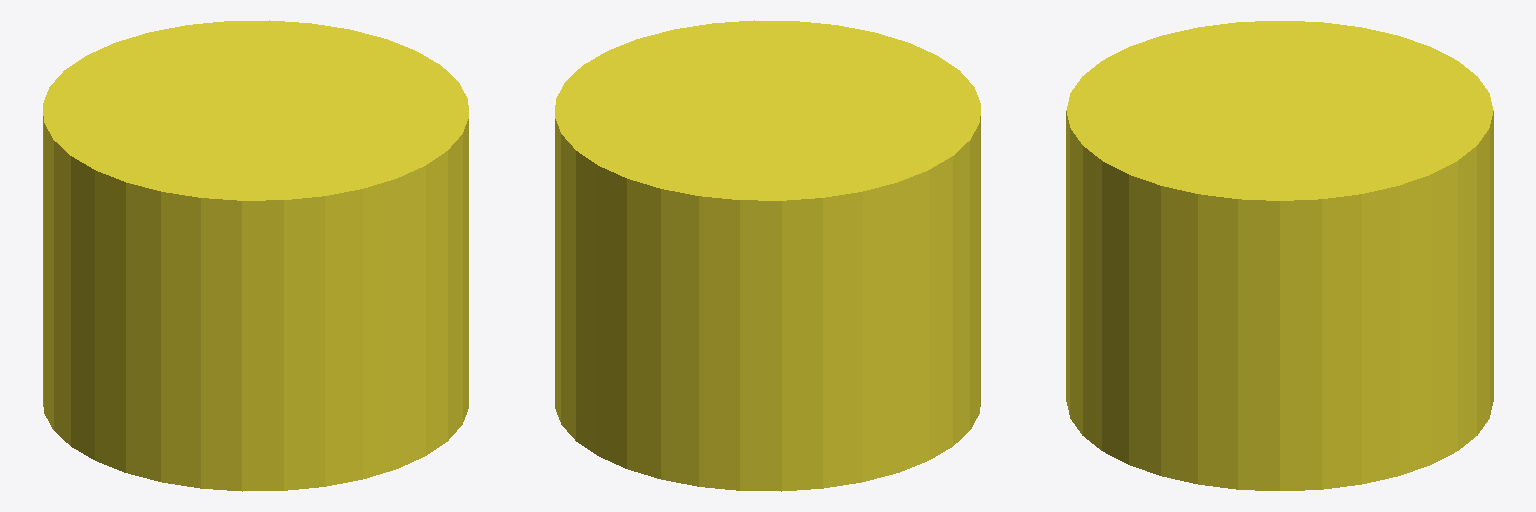
URDF robot description (mobiePanda):
<?xml version="1.0"?>
<!-- =================================================================================== -->
<!-- |    This document was autogenerated by xacro from panda_arm.urdf.xacro           | -->
<!-- |    EDITING THIS FILE BY HAND IS NOT RECOMMENDED                                 | -->
<!-- =================================================================================== -->
<robot name="mobiePanda">
  <link name="world"/>
  <link name="base_link_x">
    <inertial>
      <mass value="1.0"/>
      <origin rpy="0 0 0" xyz="0 0 0"/>
      <inertia ixx="1.0" ixy="0.0" ixz="0.0" iyy="1.0" iyz="0.0" izz="1.0"/>
    </inertial>
  </link>
  <link name="base_link_y">
    <inertial>
      <mass value="1.0"/>
      <origin rpy="0 0 0" xyz="0 0 0"/>
      <inertia ixx="1.0" ixy="0.0" ixz="0.0" iyy="1.0" iyz="0.0" izz="1.0"/>
    </inertial>
  </link>
  <link name="base_link">
    <inertial>
      <mass value="100.0"/>
      <origin rpy="0 0 0" xyz="0 0 0"/>
      <inertia ixx="1.0" ixy="0.0" ixz="0.0" iyy="1.0" iyz="0.0" izz="1.0"/>
    </inertial>
    <collision>
      <origin rpy="0.0 0 0" xyz="0 0 0"/>
      <geometry>
          <cylinder length="0.3" radius="0.2"/>
      </geometry>
    </collision>
    <visual>
      <origin rpy="0.0 0 0" xyz="0 0 0"/>
      <geometry>
          <cylinder length="0.3" radius="0.2"/>
      </geometry>
    </visual>
  </link>
  <joint name="mobile_joint_x" type="prismatic">
    <safety_controller k_position="100.0" k_velocity="40.0" soft_lower_limit="-2.8973" soft_upper_limit="2.8973"/>
    <parent link="world"/>
    <child link="base_link_x"/>
    <origin rpy="0 0 0" xyz="0 0 0.15"/>
    <axis xyz="1 0 0"/>
    <limit effort="87" lower="-5" upper="5" velocity="2.1750"/>
  </joint>
  <joint name="mobile_joint_y" type="prismatic">
    <safety_controller k_position="100.0" k_velocity="40.0" soft_lower_limit="-2.8973" soft_upper_limit="2.8973"/>
    <parent link="base_link_x"/>
    <child link="base_link_y"/>
    <origin rpy="0 0 0" xyz="0 0 0"/>
    <axis xyz="0 1 0"/>
    <limit effort="87" lower="-5" upper="5" velocity="2.1750"/>
  </joint>
  <joint name="mobile_joint_theta" type="revolute">
    <safety_controller k_position="100.0" k_velocity="40.0" soft_lower_limit="-2.8973" soft_upper_limit="2.8973"/>
    <parent link="base_link_y"/>
    <child link="base_link"/>
    <origin rpy="0 0 0" xyz="0 0 0"/>
    <axis xyz="0 0 1"/>
    <limit effort="87" lower="-5" upper="5" velocity="2.1750"/>
  </joint>
  <link name="panda_link0">
    <inertial>
      <mass value="2.92"/>
      <origin rpy="0 0 0" xyz="-0.025566 -2.88e-05 0.057332"/>
      <inertia ixx="0.00782229414331" ixy="-1.56191622996e-05" ixz="-0.00126005738123" iyy="0.0109027971813" iyz="1.08233858202e-05" izz="0.0102355503949"/>
    </inertial>
    <visual>
      <origin rpy="0 0 0" xyz="0 0 0"/>
      <geometry>
        <mesh filename="meshes/visual/link0.dae"/>
      </geometry>
      <material name="">
        <color rgba="1 1 1 1"/>
      </material>
    </visual>
    <collision>
      <origin rpy="0 0 0" xyz="0 0 0"/>
      <geometry>
        <mesh filename="meshes/collision/link0.stl"/>
      </geometry>
    </collision>
  </link>
  <joint name="panda_joint_base" type="fixed">
    <parent link="base_link"/>
    <child link="panda_link0"/>
    <origin rpy="0 0 0" xyz="0 0 0.1"/>
  </joint>
  <link name="panda_link1">
    <inertial>
      <mass value="2.74"/>
      <origin rpy="0 0 0" xyz="0 -0.0324958 -0.0675818"/>
      <inertia ixx="0.0180416958283" ixy="0.0" ixz="0.0" iyy="0.0159136071891" iyz="0.0046758424612" izz="0.00620690827127"/>
    </inertial>
    <visual>
      <origin rpy="0 0 0" xyz="0 0 0"/>
      <geometry>
        <mesh filename="meshes/visual/link1.dae"/>
      </geometry>
      <material name="">
        <color rgba="1 1 1 1"/>
      </material>
    </visual>
    <collision>
      <origin rpy="0 0 0" xyz="0 0 0"/>
      <geometry>
        <mesh filename="meshes/collision/link1.stl"/>
      </geometry>
    </collision>
  </link>
  <joint name="panda_joint1" type="revolute">
    <safety_controller k_position="100.0" k_velocity="40.0" soft_lower_limit="-2.8973" soft_upper_limit="2.8973"/>
    <origin rpy="0 0 0" xyz="0 0 0.333"/>
    <parent link="panda_link0"/>
    <child link="panda_link1"/>
    <axis xyz="0 0 1"/>
    <limit effort="87" lower="-2.8973" upper="2.8973" velocity="2.1750"/>
  </joint>
  <link name="panda_link2">
    <inertial>
      <mass value="2.74"/>
      <origin rpy="0 0 0" xyz="0 -0.06861 0.0322285"/>
      <inertia ixx="0.0182856182281" ixy="0.0" ixz="0.0" iyy="0.00621358421175" iyz="-0.00472844221905" izz="0.0161514346309"/>
    </inertial>
    <visual>
      <origin rpy="0 0 0" xyz="0 0 0"/>
      <geometry>
        <mesh filename="meshes/visual/link2.dae"/>
      </geometry>
      <material name="">
        <color rgba="1 1 1 1"/>
      </material>
    </visual>
    <collision>
      <origin rpy="0 0 0" xyz="0 0 0"/>
      <geometry>
        <mesh filename="meshes/collision/link2.stl"/>
      </geometry>
    </collision>
  </link>
  <joint name="panda_joint2" type="revolute">
    <safety_controller k_position="100.0" k_velocity="40.0" soft_lower_limit="-1.7628" soft_upper_limit="1.7628"/>
    <origin rpy="-1.57079632679 0 0" xyz="0 0 0"/>
    <parent link="panda_link1"/>
    <child link="panda_link2"/>
    <axis xyz="0 0 1"/>
    <limit effort="87" lower="-1.7628" upper="1.7628" velocity="2.1750"/>
  </joint>
  <link name="panda_link3">
    <inertial>
      <mass value="2.38"/>
      <origin rpy="0 0 0" xyz="0.0469893 0.0316374 -0.031704"/>
      <inertia ixx="0.00771376630908" ixy="-0.00248490625138" ixz="-0.00332147581033" iyy="0.00989108008727" iyz="-0.00217796151484" izz="0.00811723558464"/>
    </inertial>
    <visual>
      <origin rpy="0 0 0" xyz="0 0 0"/>
      <geometry>
        <mesh filename="meshes/visual/link3.dae"/>
      </geometry>
      <material name="">
        <color rgba="1 1 1 1"/>
      </material>
    </visual>
    <collision>
      <origin rpy="0 0 0" xyz="0 0 0"/>
      <geometry>
        <mesh filename="meshes/collision/link3.stl"/>
      </geometry>
    </collision>
  </link>
  <joint name="panda_joint3" type="revolute">
    <safety_controller k_position="100.0" k_velocity="40.0" soft_lower_limit="-2.8973" soft_upper_limit="2.8973"/>
    <origin rpy="1.57079632679 0 0" xyz="0 -0.316 0"/>
    <parent link="panda_link2"/>
    <child link="panda_link3"/>
    <axis xyz="0 0 1"/>
    <limit effort="87" lower="-2.8973" upper="2.8973" velocity="2.1750"/>
  </joint>
  <link name="panda_link4">
    <inertial>
      <mass value="2.38"/>
      <origin rpy="0 0 0" xyz="-0.0360446 0.0336853 0.031882"/>
      <inertia ixx="0.00799663881132" ixy="0.00347095570217" ixz="-0.00241222942995" iyy="0.00825390705278" iyz="0.00235774044121" izz="0.0102515004345"/>
    </inertial>
    <visual>
      <origin rpy="0 0 0" xyz="0 0 0"/>
      <geometry>
        <mesh filename="meshes/visual/link4.dae"/>
      </geometry>
      <material name="">
        <color rgba="1 1 1 1"/>
      </material>
    </visual>
    <collision>
      <origin rpy="0 0 0" xyz="0 0 0"/>
      <geometry>
        <mesh filename="meshes/collision/link4.stl"/>
      </geometry>
    </collision>
  </link>
  <joint name="panda_joint4" type="revolute">
    <safety_controller k_position="100.0" k_velocity="40.0" soft_lower_limit="-3.0718" soft_upper_limit="0.0698"/>
    <!-- soft_upper_limitr should be -0.0698, but that brakes simulation when initial position for this joint is 0.0 -->
    <origin rpy="1.57079632679 0 0" xyz="0.0825 0 0"/>
    <parent link="panda_link3"/>
    <child link="panda_link4"/>
    <axis xyz="0 0 1"/>
    <limit effort="87" lower="-3.0718" upper="0.0698" velocity="2.1750"/>
    <!-- upper should be -0.0698, but that brakes simulation when initial position for this joint is 0.0 -->
  </joint>
  <link name="panda_link5">
    <inertial>
      <mass value="2.74"/>
      <origin rpy="0 0 0" xyz="0 0.0610427 -0.104176"/>
      <inertia ixx="0.030371374513" ixy="6.50283587108e-07" ixz="-1.05129179916e-05" iyy="0.0288752887402" iyz="-0.00775653445787" izz="0.00444134056164"/>
    </inertial>
    <visual>
      <origin rpy="0 0 0" xyz="0 0 0"/>
      <geometry>
        <mesh filename="meshes/visual/link5.dae"/>
      </geometry>
      <material name="">
        <color rgba="1 1 1 1"/>
      </material>
    </visual>
    <collision>
      <origin rpy="0 0 0" xyz="0 0 0"/>
      <geometry>
        <mesh filename="meshes/collision/link5.stl"/>
      </geometry>
    </collision>
  </link>
  <joint name="panda_joint5" type="revolute">
    <safety_controller k_position="100.0" k_velocity="40.0" soft_lower_limit="-2.8973" soft_upper_limit="2.8973"/>
    <origin rpy="-1.57079632679 0 0" xyz="-0.0825 0.384 0"/>
    <parent link="panda_link4"/>
    <child link="panda_link5"/>
    <axis xyz="0 0 1"/>
    <limit effort="12" lower="-2.8973" upper="2.8973" velocity="2.6100"/>
  </joint>
  <link name="panda_link6">
    <inertial>
      <mass value="1.55"/>
      <origin rpy="0 0 0" xyz="0.0510509 0.009108 0.0106343"/>
      <inertia ixx="0.00303336450376" ixy="-0.000437276865508" ixz="0.000629257294877" iyy="0.00404479911567" iyz="0.000130472021025" izz="0.00558234286039"/>
    </inertial>
    <visual>
      <origin rpy="0 0 0" xyz="0 0 0"/>
      <geometry>
        <mesh filename="meshes/visual/link6.dae"/>
      </geometry>
      <material name="">
        <color rgba="1 1 1 1"/>
      </material>
    </visual>
    <collision>
      <origin rpy="0 0 0" xyz="0 0 0"/>
      <geometry>
        <mesh filename="meshes/collision/link6.stl"/>
      </geometry>
    </collision>
  </link>
  <joint name="panda_joint6" type="revolute">
    <safety_controller k_position="100.0" k_velocity="40.0" soft_lower_limit="-0.0175" soft_upper_limit="3.7525"/>
    <origin rpy="1.57079632679 0 0" xyz="0 0 0"/>
    <parent link="panda_link5"/>
    <child link="panda_link6"/>
    <axis xyz="0 0 1"/>
    <limit effort="12" lower="-0.0175" upper="3.7525" velocity="2.6100"/>
  </joint>
  <link name="panda_link7">
    <inertial>
      <mass value="0.54"/>
      <origin rpy="0 0 0" xyz="0.0109695 0.0107965 0.0650411"/>
      <inertia ixx="0.000888868887021" ixy="-0.00012239074652" ixz="3.98699829666e-05" iyy="0.000888001373233" iyz="-9.33825115206e-05" izz="0.0007176834609"/>
    </inertial>
    <visual>
      <origin rpy="0 0 0" xyz="0 0 0"/>
      <geometry>
        <mesh filename="meshes/visual/link7.dae"/>
      </geometry>
      <material name="">
        <color rgba="1 1 1 1"/>
      </material>
    </visual>
    <collision>
      <origin rpy="0 0 0" xyz="0 0 0"/>
      <geometry>
        <mesh filename="meshes/collision/link7.stl"/>
      </geometry>
    </collision>
  </link>
  <joint name="panda_joint7" type="revolute">
    <safety_controller k_position="100.0" k_velocity="40.0" soft_lower_limit="-2.8973" soft_upper_limit="2.8973"/>
    <origin rpy="1.57079632679 0 0" xyz="0.088 0 0"/>
    <parent link="panda_link6"/>
    <child link="panda_link7"/>
    <axis xyz="0 0 1"/>
    <limit effort="12" lower="-2.8973" upper="2.8973" velocity="2.6100"/>
  </joint>
  <!-- critical as zero mass link -->
  <link name="panda_link8"/>
    <inertial>
      <mass value="0.01"/>
      <origin rpy="0 0 0" xyz="0.0 0.0 0.0"/>
      <inertia ixx="0.000888868887021" ixy="-0.00012239074652" ixz="3.98699829666e-05" iyy="0.000888001373233" iyz="-9.33825115206e-05" izz="0.0007176834609"/>
    </inertial>
  <joint name="panda_joint8" type="fixed">
    <origin rpy="0 0 0" xyz="0 0 0.107"/>
    <parent link="panda_link7"/>
    <child link="panda_link8"/>
    <axis xyz="0 0 0"/>
  </joint>
  <joint name="panda_hand_joint" type="fixed">
    <parent link="panda_link8"/>
    <child link="panda_hand"/>
    <origin rpy="0 0 -0.785398163397" xyz="0 0 0"/>
  </joint>
  <link name="panda_hand">
    <visual>
      <geometry>
        <mesh filename="meshes/visual/hand.dae"/>
      </geometry>
    </visual>
    <collision>
      <geometry>
        <mesh filename="meshes/collision/hand.stl"/>
      </geometry>
    </collision>
    <!-- for simulation -->
    <inertial>
      <origin rpy="0 0 0" xyz="0 0 0"/>
      <mass value="0.68"/>
      <inertia ixx="0.1" ixy="0.0" ixz="0.0" iyy="0.1" iyz="0.0" izz="0.1"/>
    </inertial>
    <!-- end for simulation -->
  </link>
  <link name="panda_leftfinger">
    <visual>
      <geometry>
        <mesh filename="meshes/visual/finger.dae"/>
      </geometry>
    </visual>
    <collision>
      <geometry>
        <mesh filename="meshes/collision/finger.stl"/>
      </geometry>
    </collision>
    <!-- for simulation -->
    <inertial>
      <origin rpy="0 0 0" xyz="0 0 0"/>
      <mass value="0.01"/>
      <inertia ixx="0.1" ixy="0.0" ixz="0.0" iyy="0.1" iyz="0.0" izz="0.1"/>
    </inertial>
    <!-- end for simulation -->
  </link>
  <link name="panda_rightfinger">
    <visual>
      <origin rpy="0 0 3.14159265359" xyz="0 0 0"/>
      <geometry>
        <mesh filename="meshes/visual/finger.dae"/>
      </geometry>
    </visual>
    <collision>
      <origin rpy="0 0 3.14159265359" xyz="0 0 0"/>
      <geometry>
        <mesh filename="meshes/collision/finger.stl"/>
      </geometry>
    </collision>
    <!-- for simulation -->
    <inertial>
      <origin rpy="0 0 0" xyz="0 0 0"/>
      <mass value="0.01"/>
      <inertia ixx="0.1" ixy="0.0" ixz="0.0" iyy="0.1" iyz="0.0" izz="0.1"/>
    </inertial>
    <!-- end for simulation -->
  </link>
  <joint name="panda_finger_joint1" type="prismatic">
    <parent link="panda_hand"/>
    <child link="panda_leftfinger"/>
    <origin rpy="0 0 0" xyz="0 0 0.0584"/>
    <axis xyz="0 1 0"/>
    <limit effort="20" lower="0.0" upper="0.04" velocity="0.2"/>
  </joint>
  <joint name="panda_finger_joint2" type="prismatic">
    <parent link="panda_hand"/>
    <child link="panda_rightfinger"/>
    <origin rpy="0 0 0" xyz="0 0 0.0584"/>
    <axis xyz="0 -1 0"/>
    <limit effort="20" lower="0.0" upper="0.04" velocity="0.2"/>
  </joint>
</robot>

--- What the picture shows (computed from the rendered views, not written in the file) ---
The picture shows the robot from 3 angles, left to right: view 1: azimuth 30°, elevation 25°; view 2: azimuth 150°, elevation 25°; view 3: azimuth 270°, elevation 25°; orthographic projection.
Model mobiePanda with 16 links and 15 joints (8 revolute, 4 prismatic, 3 fixed), rooted at world, posed every joint at zero.
Visible links, largest first — view 1: base_link; view 2: base_link; view 3: base_link.
Link boxes in pixels (x1,y1,x2,y2): base_link: [43, 20, 468, 491]; base_link: [555, 20, 980, 491]; base_link: [1066, 21, 1493, 490].
Bounding box of the posed robot: 0.4 × 0.4 × 0.3 m (x, y, z).
0 mesh visuals loaded from 10 distinct referenced files (none loaded); not drawn: 11 (reference not matched to a file when rendering).